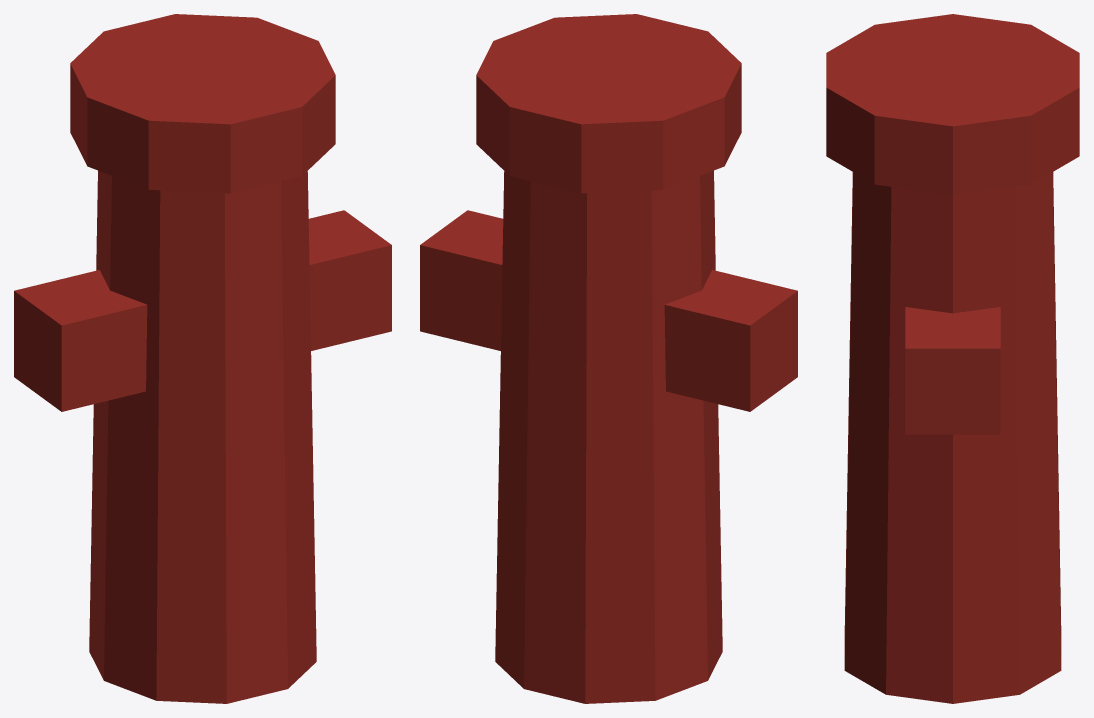
Rendered from Prop_Hydrant.fbx.
3 renders of one model, left to right at view 1: azimuth 30°, elevation 25°; view 2: azimuth 150°, elevation 25°; view 3: azimuth 270°, elevation 25°, orthographic.
Parts seen in each view (by area): view 1: Prop_Hydrant; view 2: Prop_Hydrant; view 3: Prop_Hydrant.
Boxes of the visible parts, x1,y1,x2,y2 form: Prop_Hydrant: [14, 14, 391, 703]; Prop_Hydrant: [420, 14, 797, 703]; Prop_Hydrant: [826, 14, 1079, 703].
Size of the model in its own units: 0.4 by 0.68 by 0.2663.
